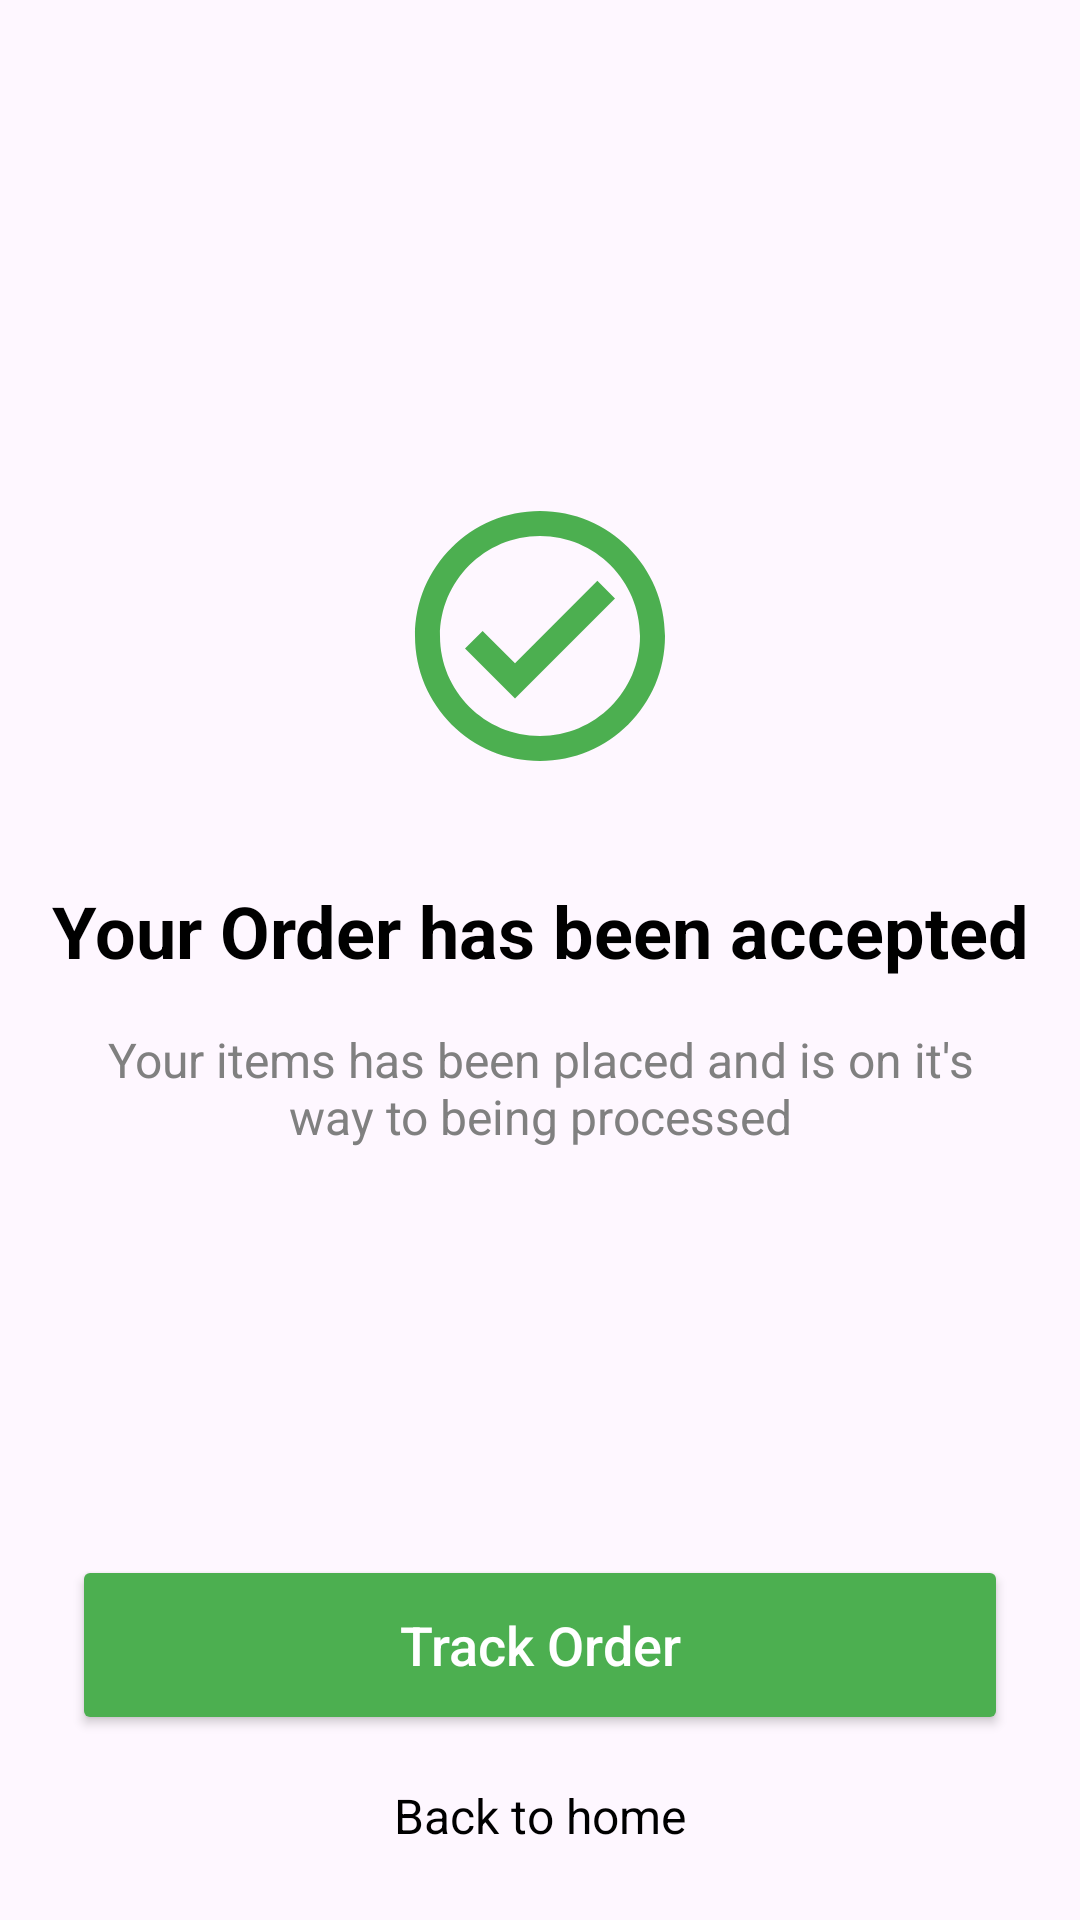

Where icons sit on this 1080w x 1920h app screen, as rect(x1, y1, x2, y2):
check circle: rect(415, 511, 665, 761)
